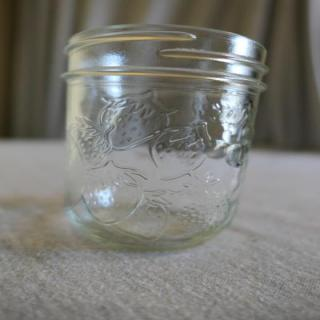GLASS: (60, 17, 265, 252)
